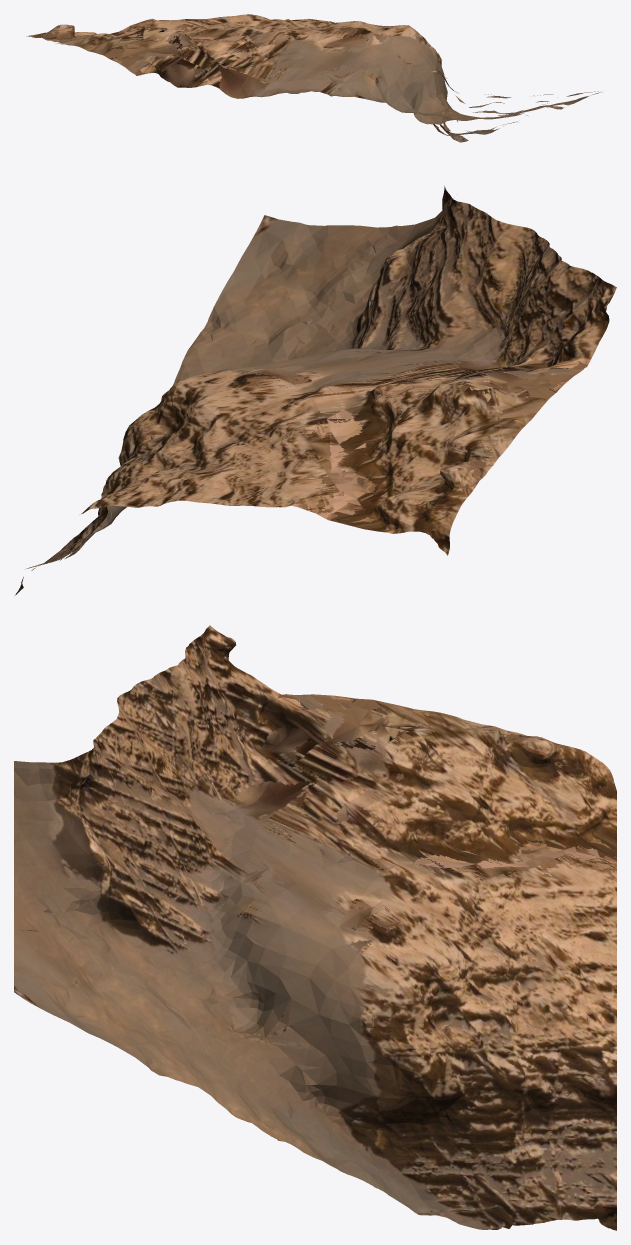
3 renders of one model, top to bottom at view 1: azimuth 30°, elevation 25°; view 2: azimuth 150°, elevation 25°; view 3: azimuth 270°, elevation 25°, orthographic. The views are drawn at different scales.
Size of the model in its own units: 1.04 by 0.6707 by 1.04.
3 materials, 3 textured.
